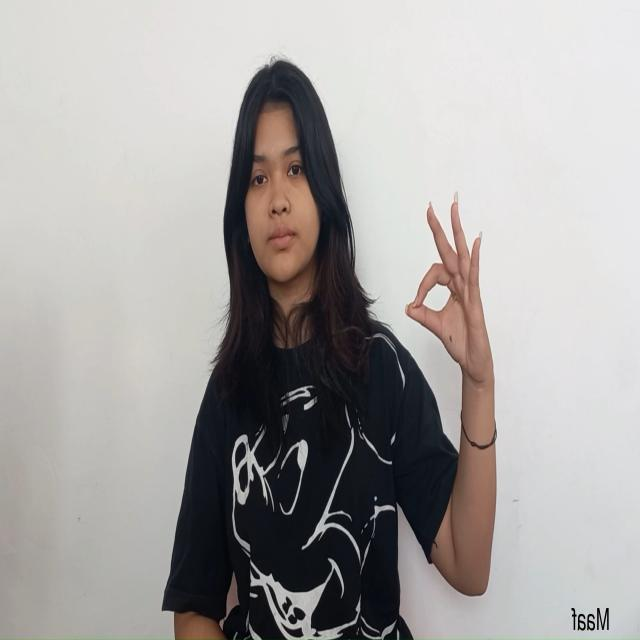Maaf -BISINDO-: (404, 186, 497, 414)
